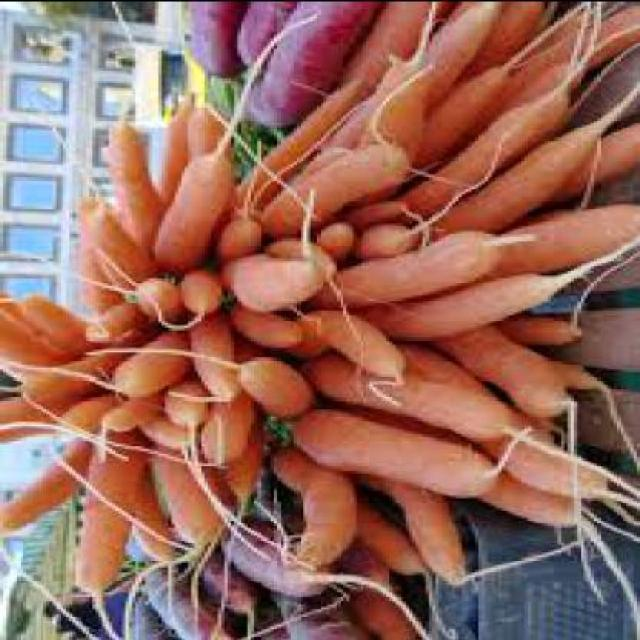BIODEGRADABLE: (234, 2, 637, 584), (0, 107, 274, 596), (122, 466, 410, 639), (182, 3, 372, 163)
